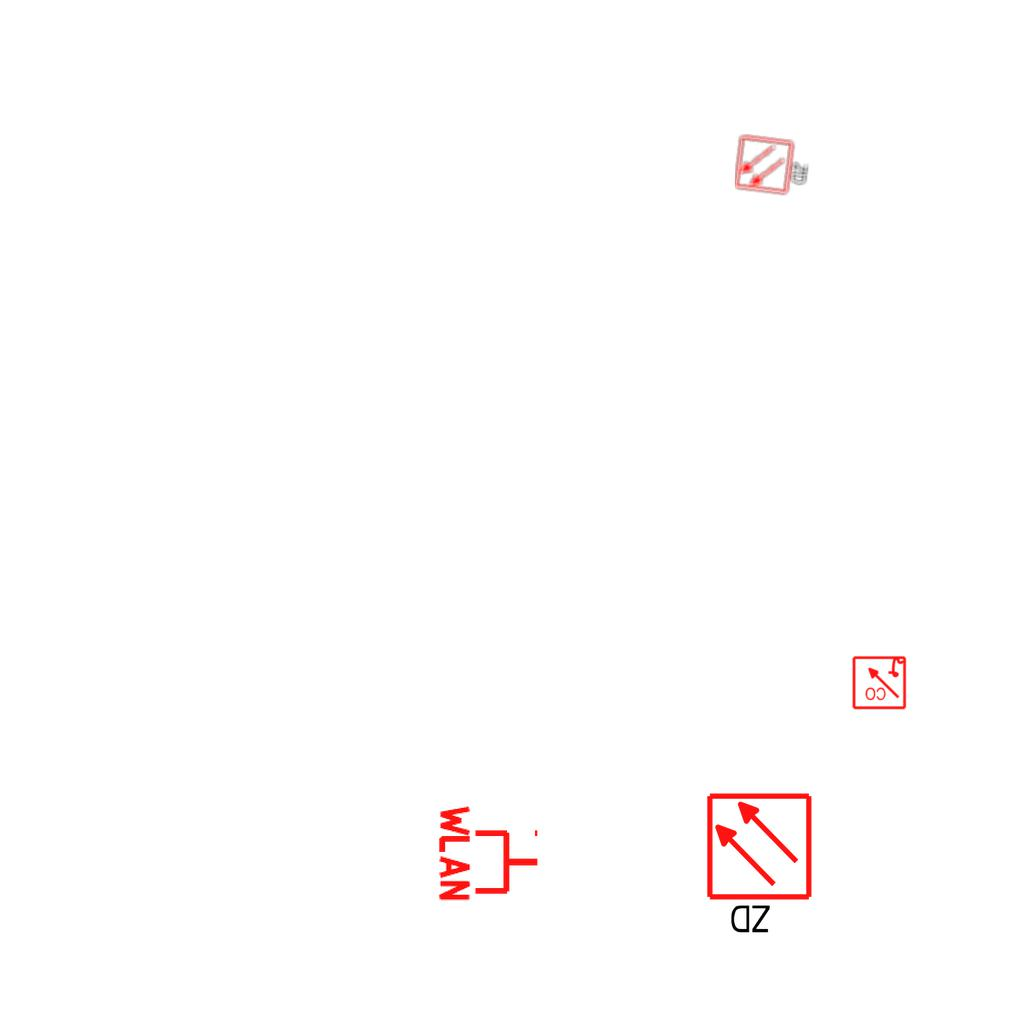ROA_Rauchmelder_optisch_mit_Signalgeber_(Sockelsirene): (851, 654, 907, 710)
WLAN: (437, 801, 542, 905)
ZD_Melder_in_Zwischendecke_mit_Revisionsoeffnung_mind_40_x_40_cm: (704, 791, 818, 940), (733, 132, 814, 198)
